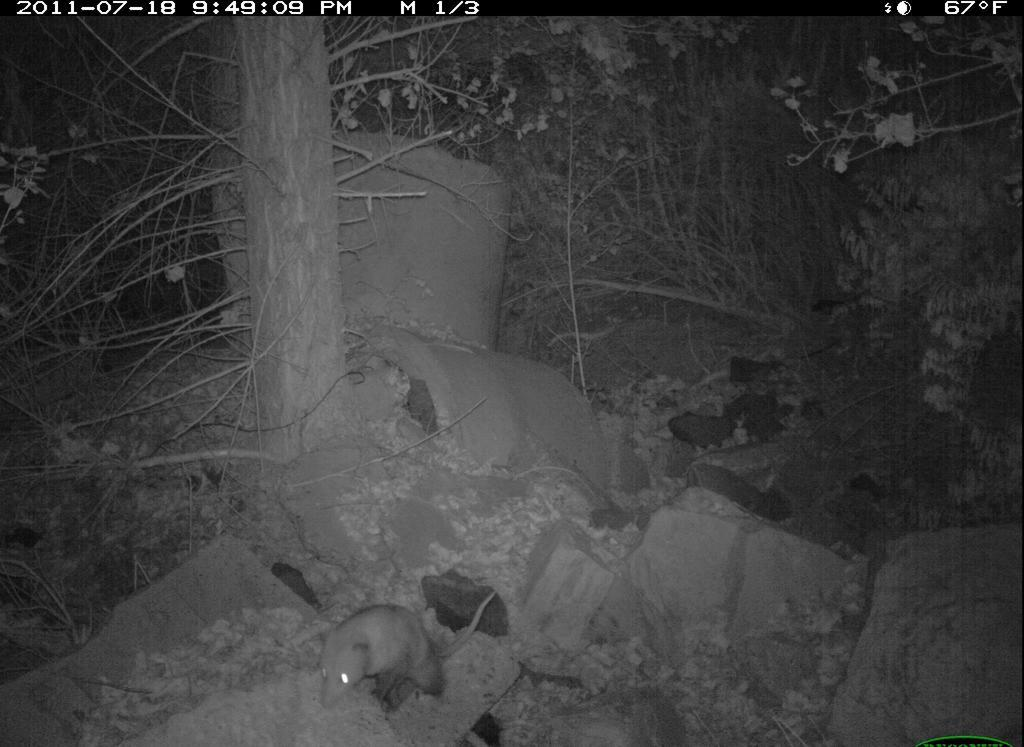opossum: (315, 584, 502, 716)
